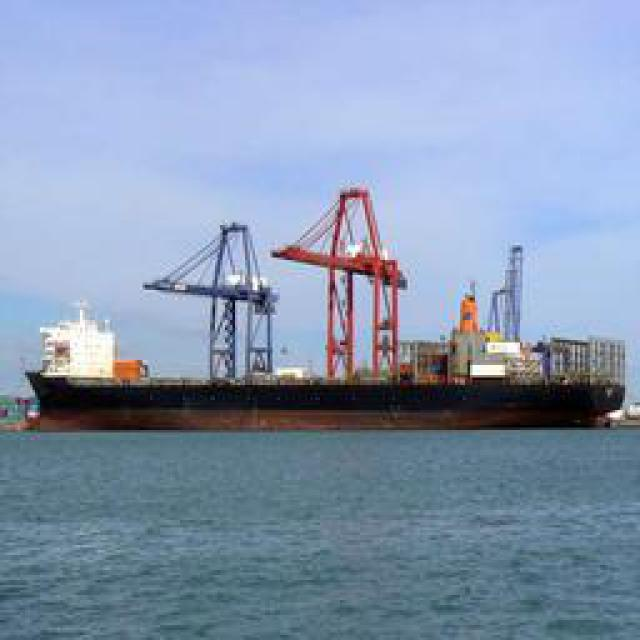Ship: (21, 189, 629, 412)
